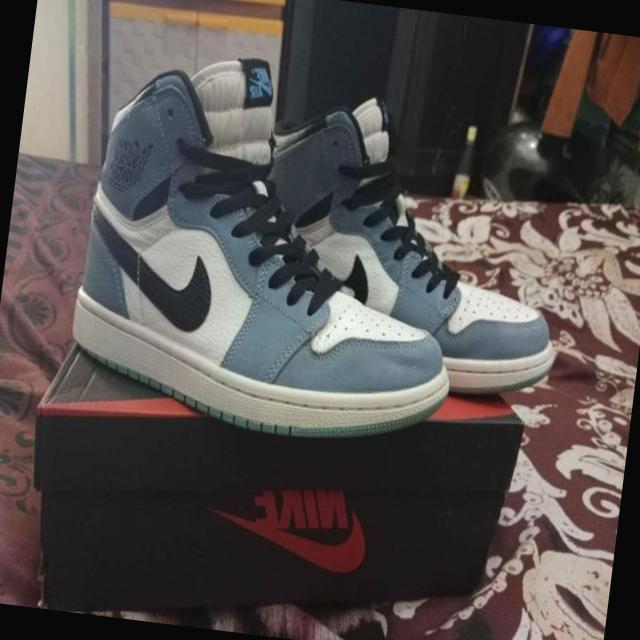nike_fake_jordan: (58, 40, 484, 453), (204, 78, 586, 410)
